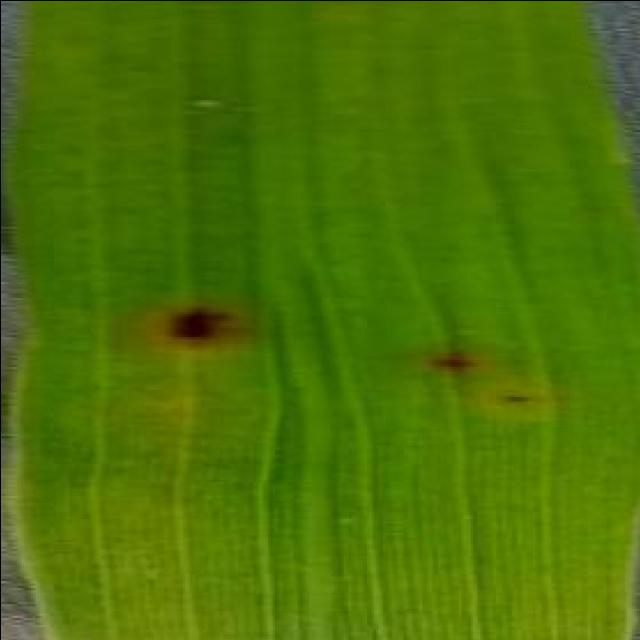Brown_Spot: (154, 284, 258, 368), (474, 375, 566, 431), (406, 338, 484, 388)
